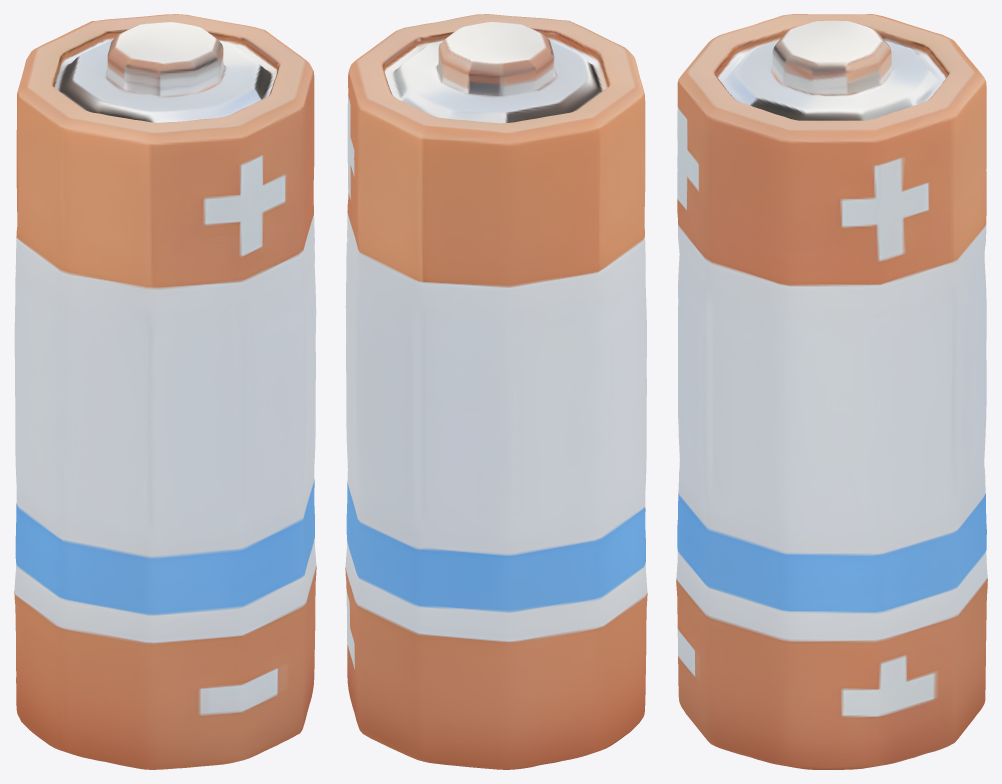
The model's file is base_basic_shaded.fbx.
3 views of the same model, side by side, from view 1: azimuth 30°, elevation 25°; view 2: azimuth 150°, elevation 25°; view 3: azimuth 270°, elevation 25° (orthographic).
Parts seen in each view (by area): view 1: model; view 2: model; view 3: model.
Part boxes in pixels (<box>): model: <box>14,14,316,769</box>; model: <box>345,14,647,769</box>; model: <box>676,14,987,769</box>.
Size of the model in its own units: 76.81 by 191 by 80.11.
